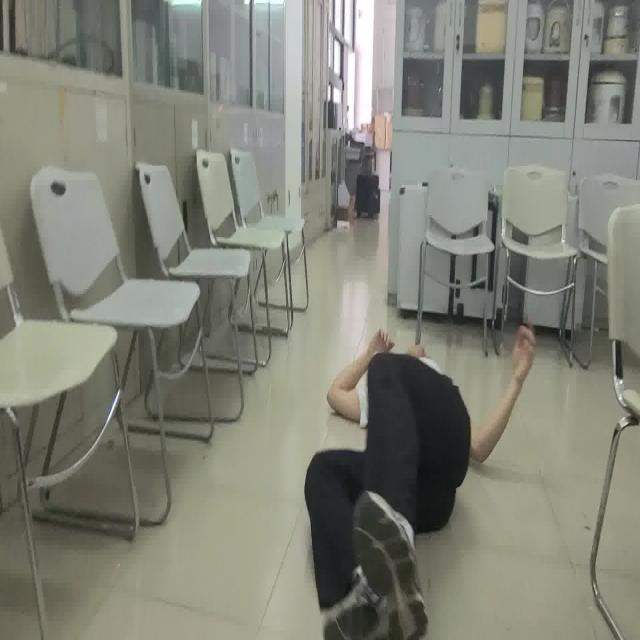fall: (300, 324, 537, 640)
